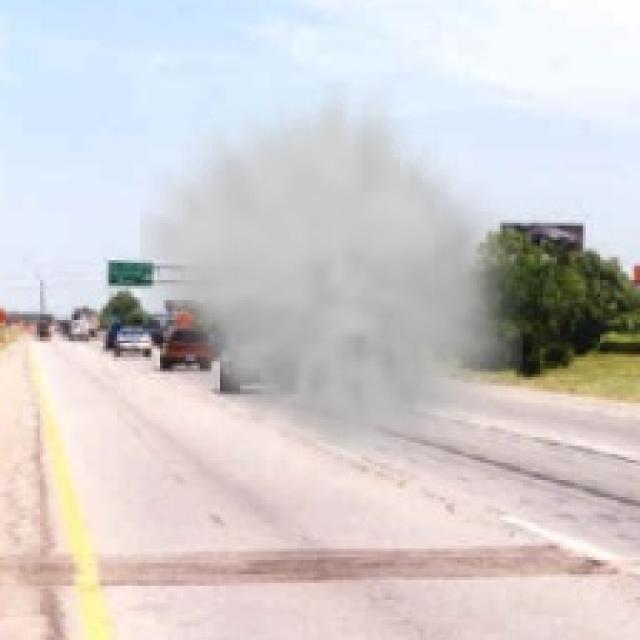Smoke: (140, 82, 523, 478)
